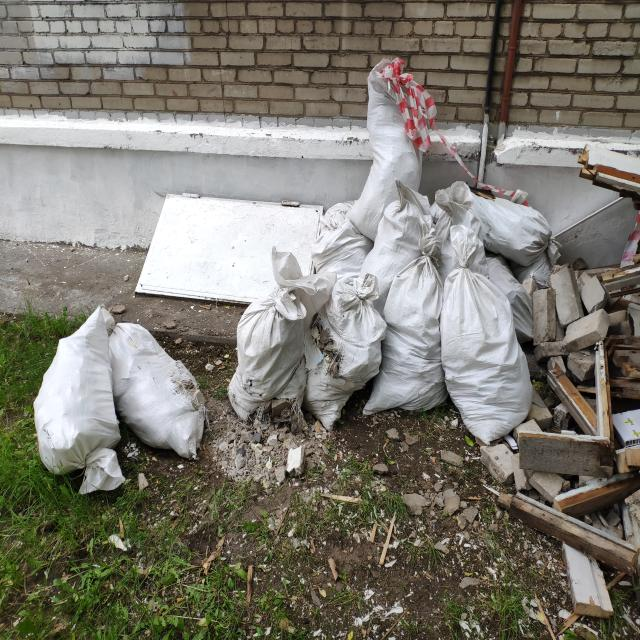entulho: (535, 172, 639, 359), (23, 309, 124, 492), (430, 273, 527, 454), (518, 338, 620, 482), (304, 276, 398, 430), (352, 68, 432, 246), (112, 320, 214, 457), (366, 246, 444, 417), (430, 183, 554, 288), (498, 484, 636, 576), (226, 302, 306, 418), (308, 208, 373, 290), (560, 532, 620, 620), (578, 142, 640, 195)
